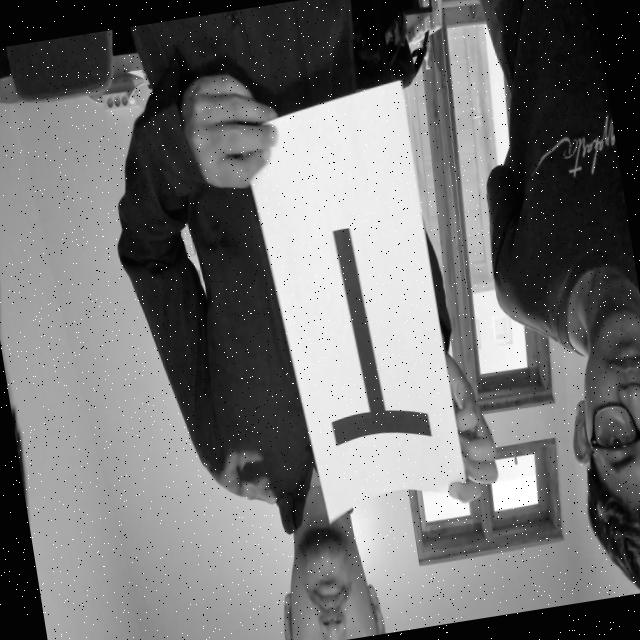t: (268, 172, 442, 478)
